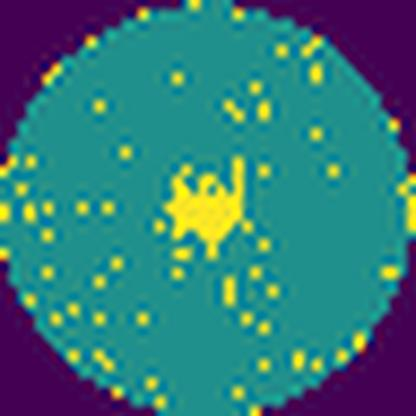Center: (167, 156, 245, 262)
